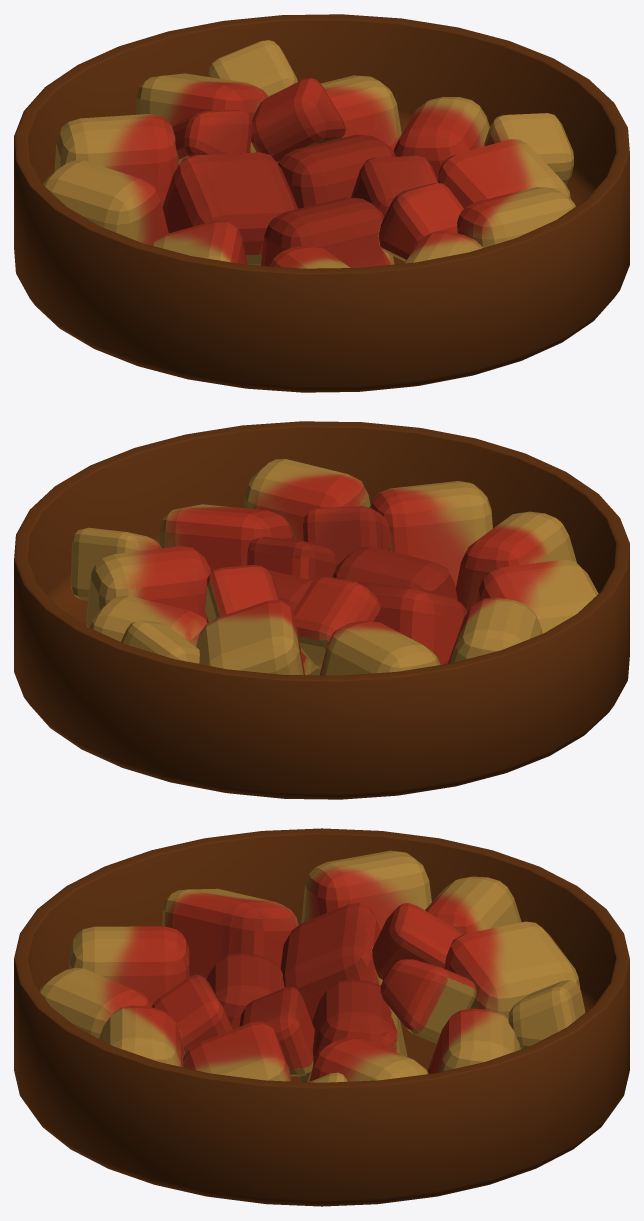
The model's file is bravaRAWR.fbx.
The picture shows the model from 3 angles, top to bottom: view 1: azimuth 30°, elevation 25°; view 2: azimuth 150°, elevation 25°; view 3: azimuth 270°, elevation 25°; orthographic projection.
Parts seen in each view (by area): view 1: Plato, patata; view 2: Plato, patata; view 3: Plato, patata.
Boxes of the visible parts, x1,y1,x2,y2 form: Plato: [14, 14, 629, 392]; patata: [43, 40, 575, 268]; Plato: [14, 421, 629, 799]; patata: [70, 459, 598, 675]; Plato: [14, 828, 629, 1206]; patata: [39, 850, 585, 1082].
Size of the model in its own units: 48.77 by 13.61 by 48.77.
